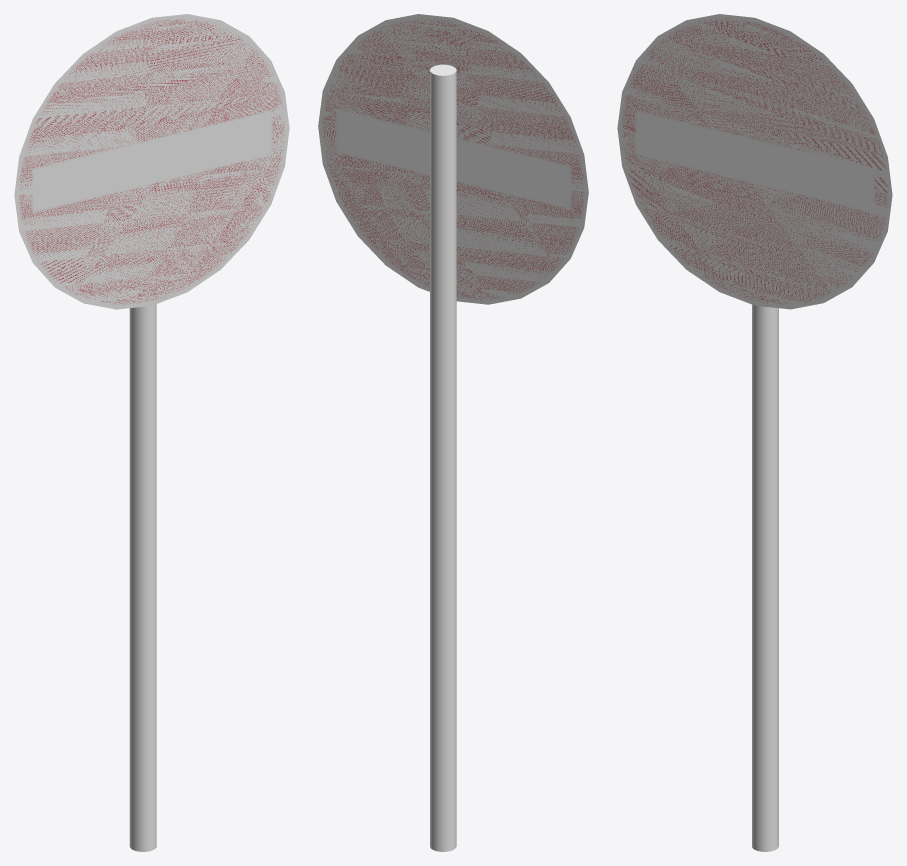
3 renders of one model, left to right at view 1: azimuth 30°, elevation 25°; view 2: azimuth 150°, elevation 25°; view 3: azimuth 330°, elevation 25°, orthographic.
Parts seen in each view (by area): view 1: SketchUp (×2); view 2: SketchUp (×2); view 3: SketchUp (×2).
Boxes of the visible parts, left/top/right/bottom form: SketchUp (×2): left=14, top=14, right=289, bottom=851; SketchUp (×2): left=318, top=14, right=588, bottom=851; SketchUp (×2): left=617, top=14, right=892, bottom=851.
Bounding box in the file's own units: 74.02 × 7.6 × 215.
Materials: 2 (1 with a texture image).
